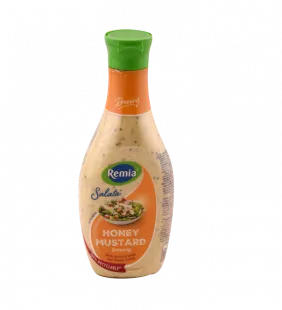Promotion: (68, 20, 180, 284)
